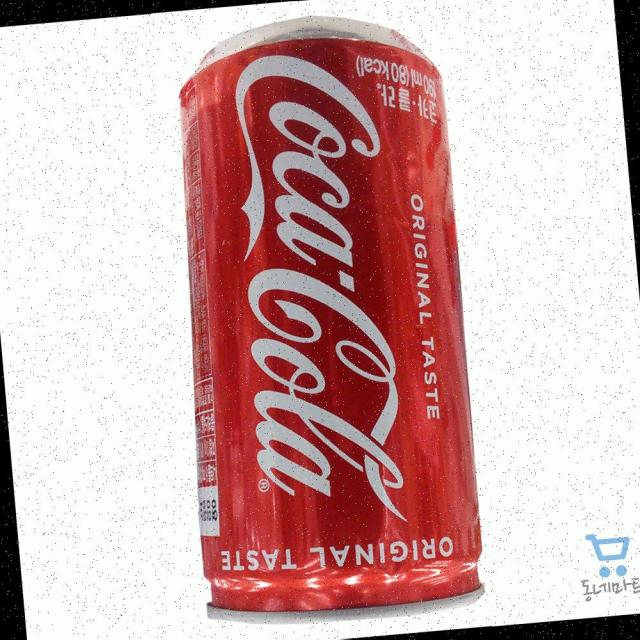coca-cola: (151, 1, 492, 639)
